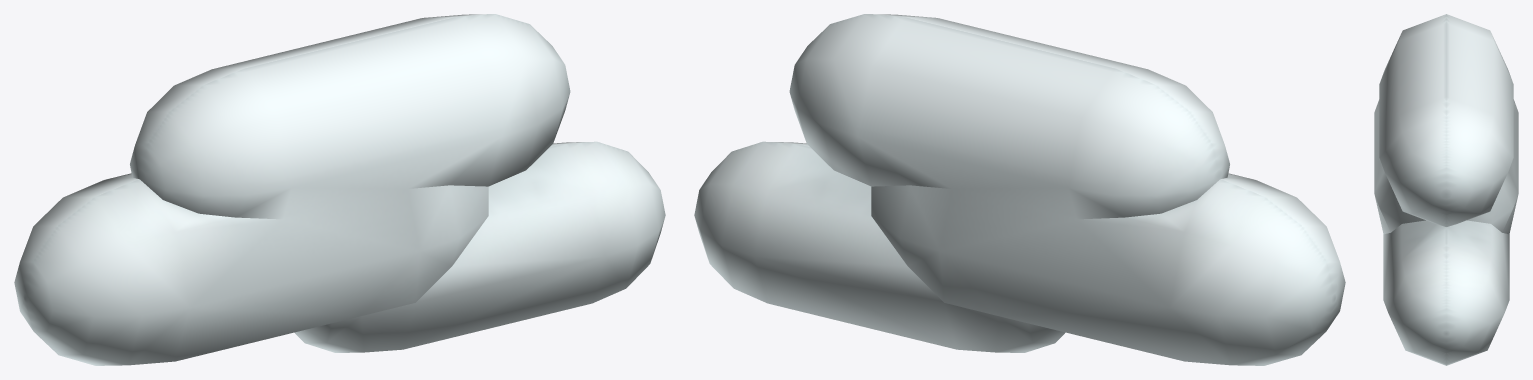
Rendered from kumo01.fbx.
3 views of the same model, side by side, from view 1: azimuth 30°, elevation 25°; view 2: azimuth 150°, elevation 25°; view 3: azimuth 270°, elevation 25° (orthographic). The views are drawn at different scales.
Visible parts, largest first — view 1: kumo01; view 2: kumo01; view 3: kumo01.
Boxes of the visible parts, <box> form: kumo01: <box>14,14,665,365</box>; kumo01: <box>694,14,1345,365</box>; kumo01: <box>1374,14,1518,365</box>.
Size of the model in its own units: 319 by 151 by 88.32.
